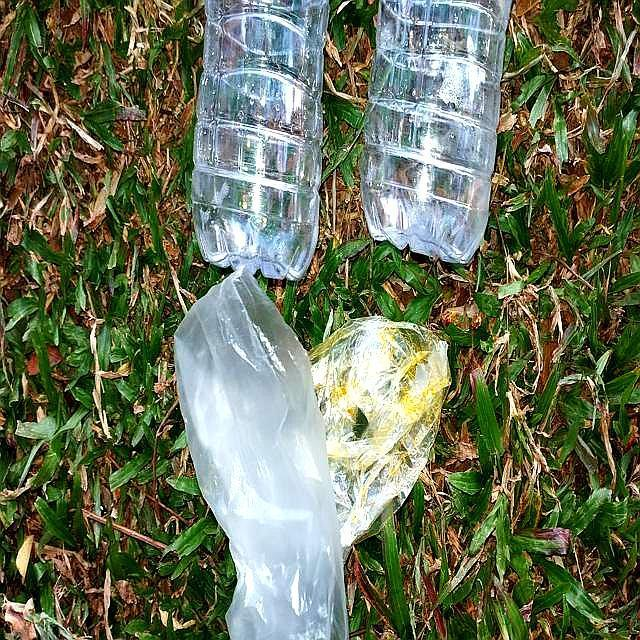Non-biodegradable: (174, 269, 452, 640), (363, 1, 509, 268), (197, 1, 326, 281)
